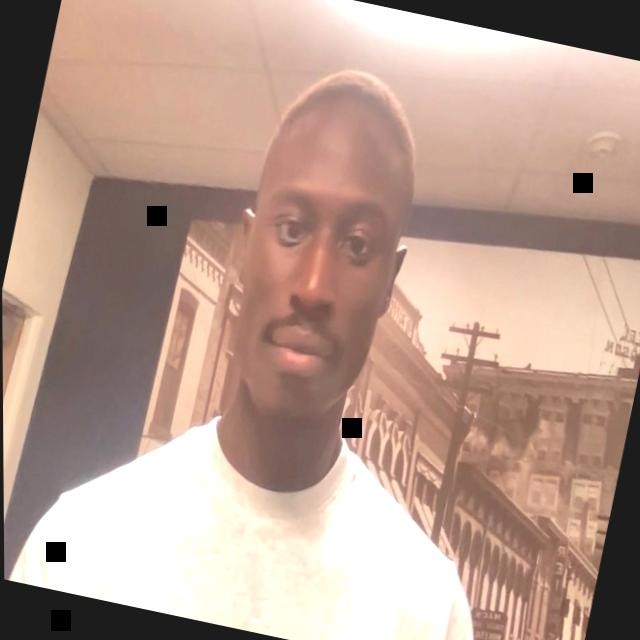NO-Mask: (201, 57, 444, 450)
